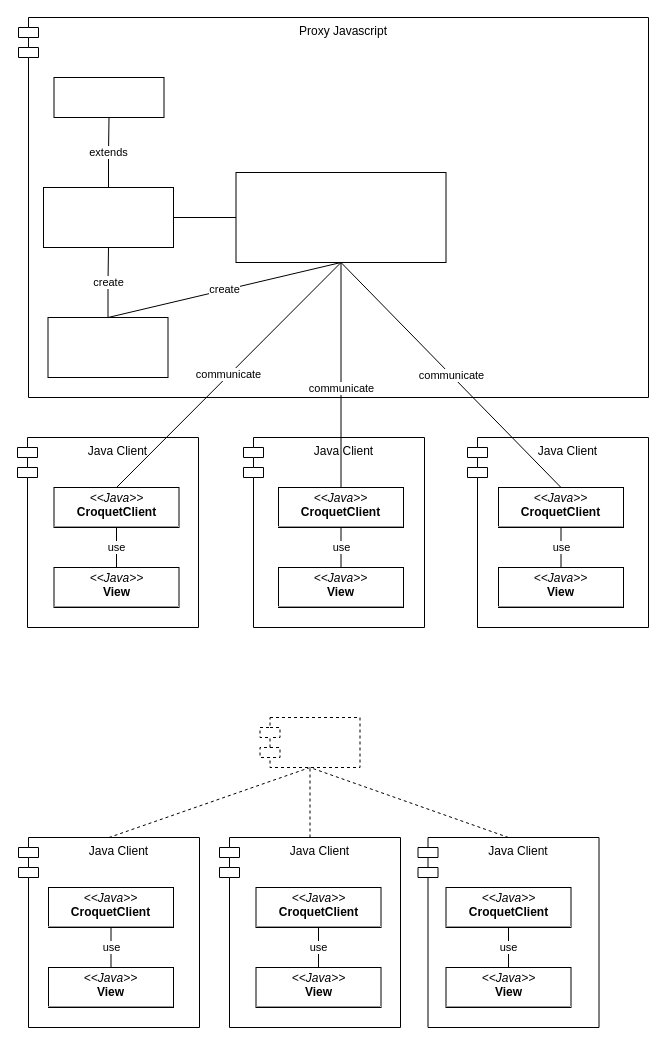
The diagram is 666 pixels wide and 1045 high, and some of its shapes have lost their labels. Each missing label, with the centre of its shape:
"<< Javascript >> AppModel" belongs at point (108, 217).
"<< Javascript >> Model" belongs at point (108, 97).
"<< Javascript >> ProxyServer" belongs at point (107, 347).
"<<Javascript>> ProxyView + sockets: [] + subscriptions: Map<Topic, Socket>" belongs at point (340, 217).
"Model" belongs at point (309, 742).
